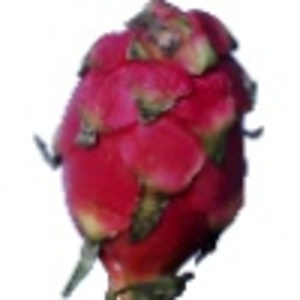pitaia: (33, 1, 265, 300)
